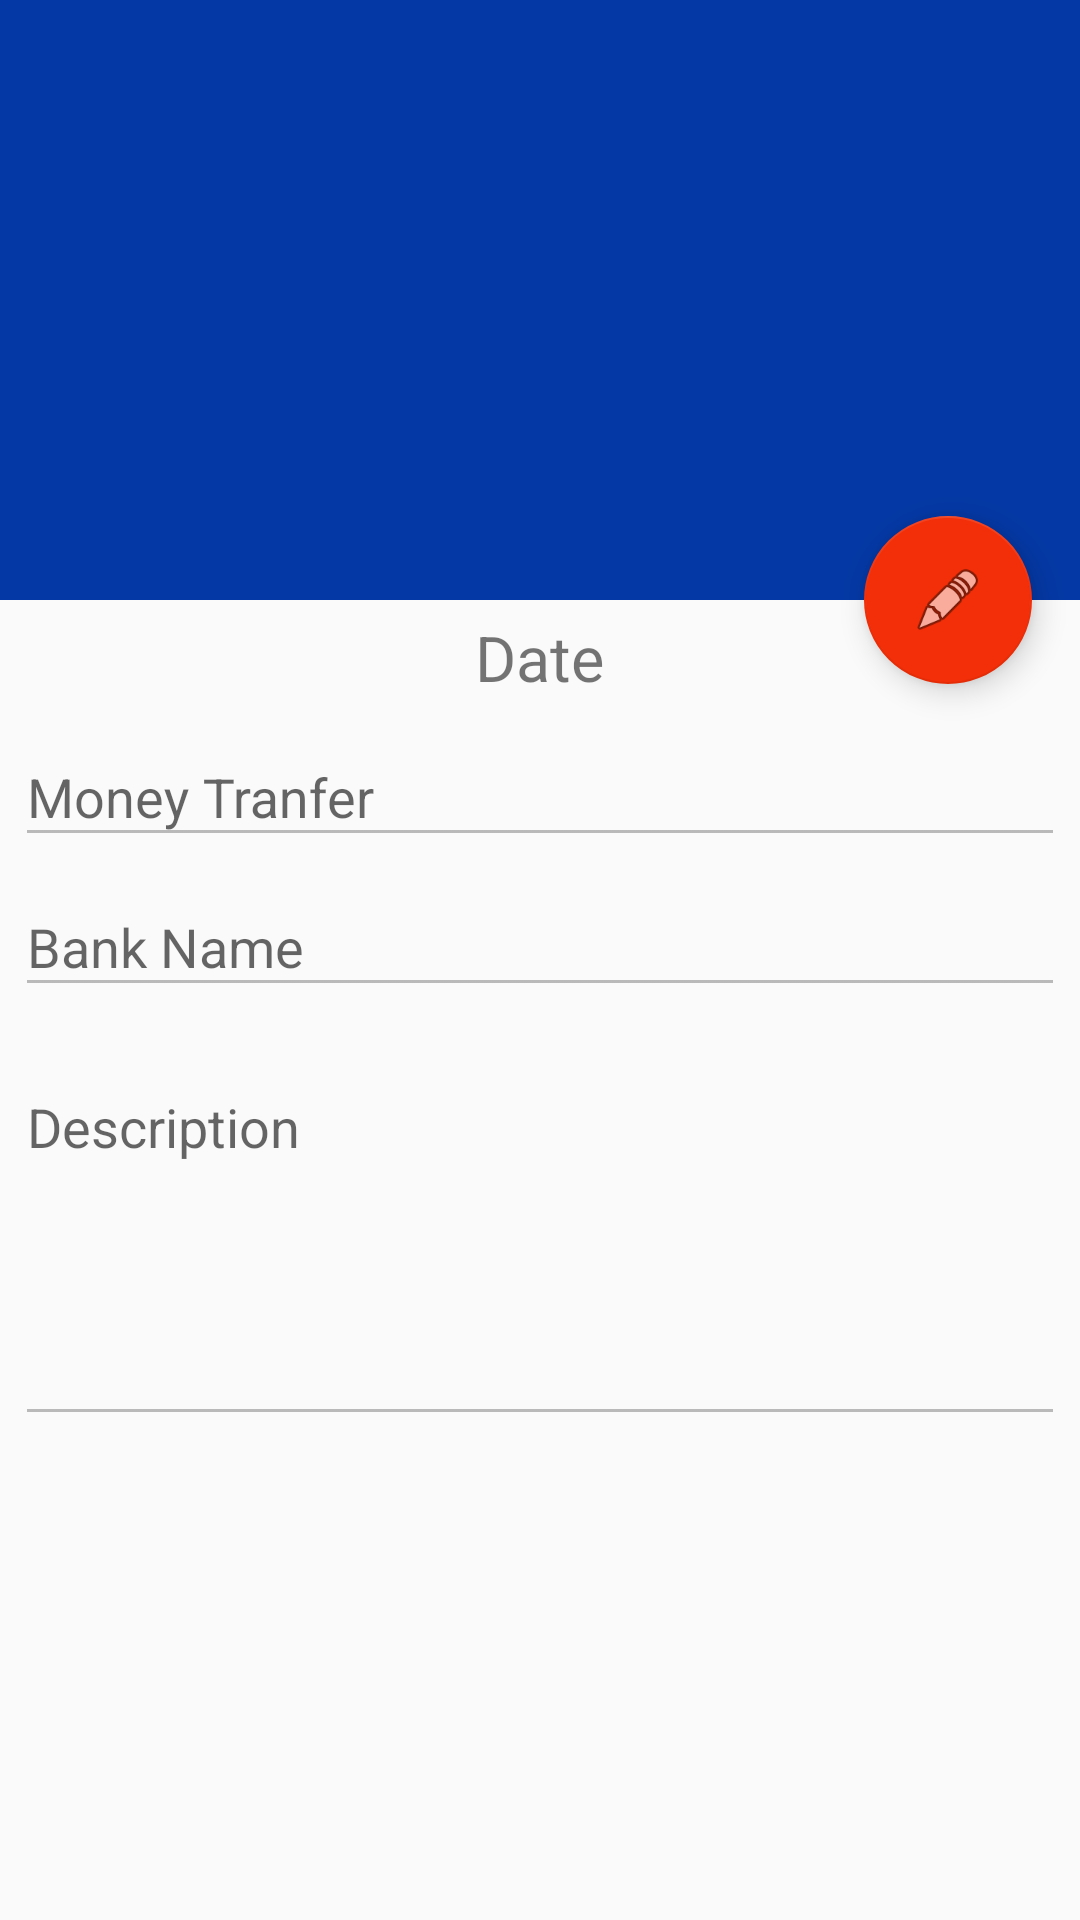

Where to tap for icons on this 1080x1920 app screen, as (x,y):
edit: (948,600)
